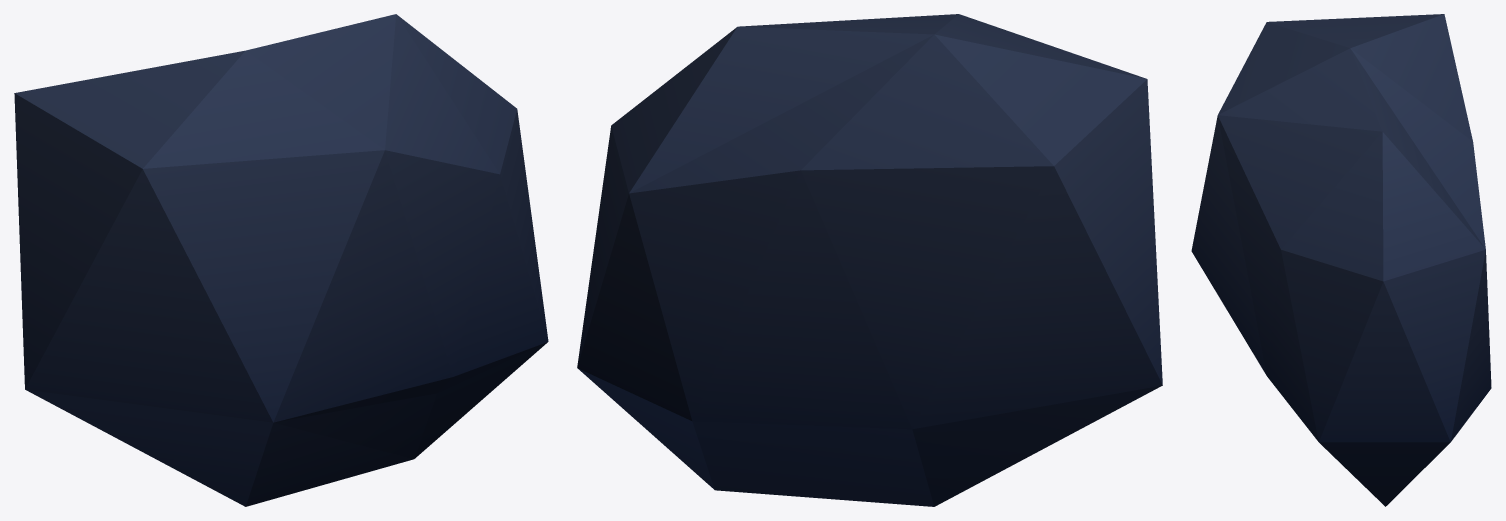
The model's file is Rock_4.glb.
3 views of the same model, side by side, from view 1: azimuth 30°, elevation 25°; view 2: azimuth 150°, elevation 25°; view 3: azimuth 270°, elevation 25° (orthographic). The views are drawn at different scales.
Parts seen in each view (by area): view 1: lamplighter__Rock_4__stone; view 2: lamplighter__Rock_4__stone; view 3: lamplighter__Rock_4__stone.
Part boxes in pixels (x1,y1,x2,y2): lamplighter__Rock_4__stone: [14, 14, 548, 506]; lamplighter__Rock_4__stone: [577, 14, 1162, 506]; lamplighter__Rock_4__stone: [1191, 14, 1491, 506].
Bounding box in the file's own units: 0.67 × 0.5882 × 0.4174.
